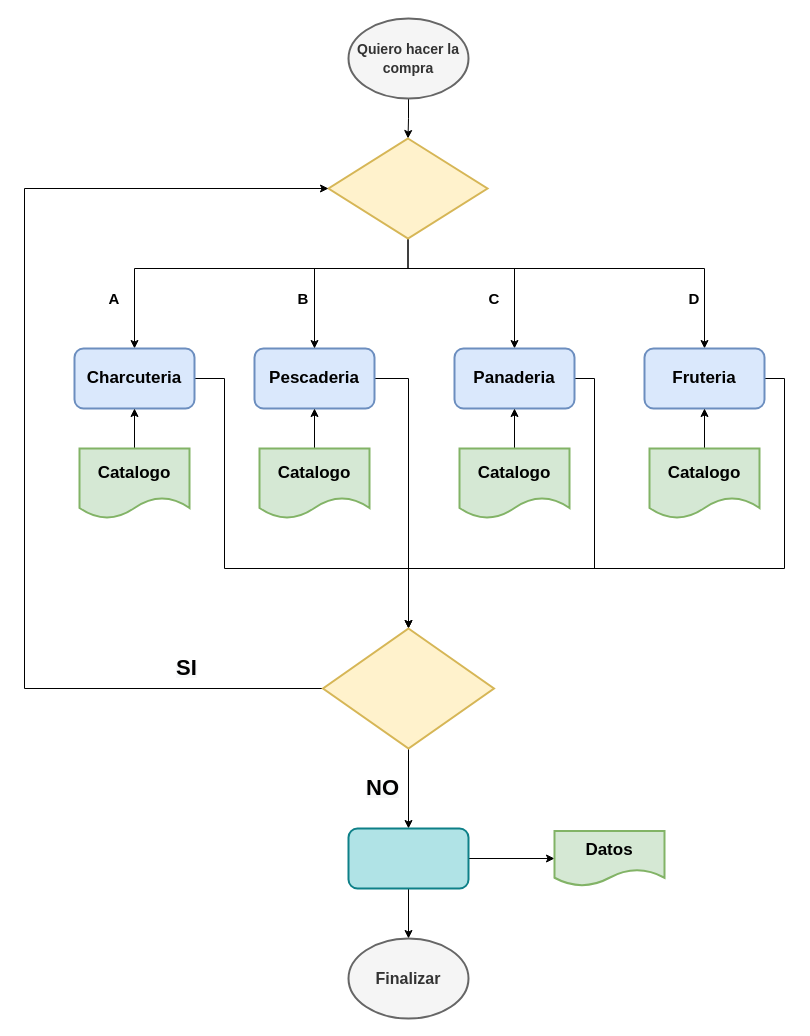
Some shapes in this 810 by 1036 pixel diagram are drawn without their labels. Here are the shapes that lost their labels. From the top down, the centre of each, then its label:
the point at 407,188: ¿En que seccion quiero comprar?
the point at 408,688: ¿Comprar en alguna otra seccion?
the point at 408,858: Añadir datos para la entrega
